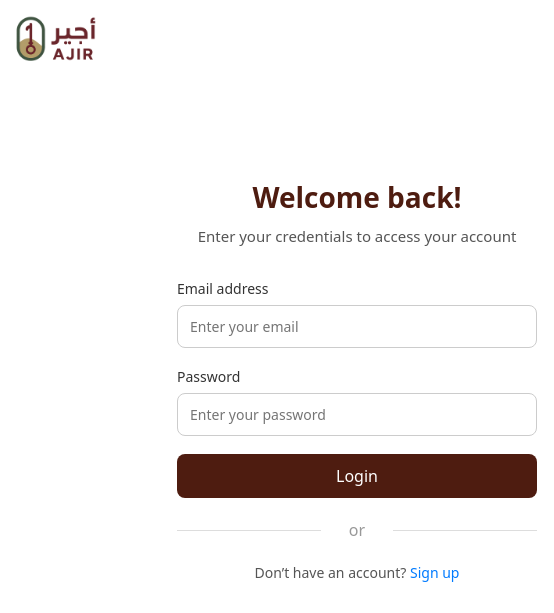
Login Component Tests › shows validation errors when submitting empty form
Click the button "Login" at [357, 476], box [177,454,537,498]
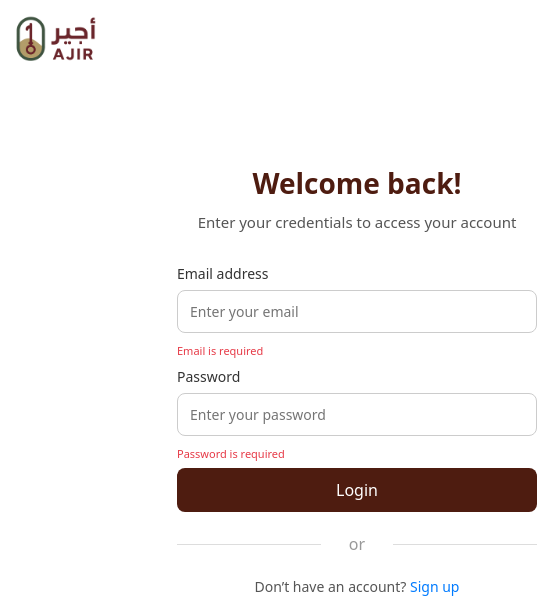
Expected: the text "Email is required" is shown, [177,343,263,358]
Expected: the text "Password is required" is shown, [177,446,285,460]
